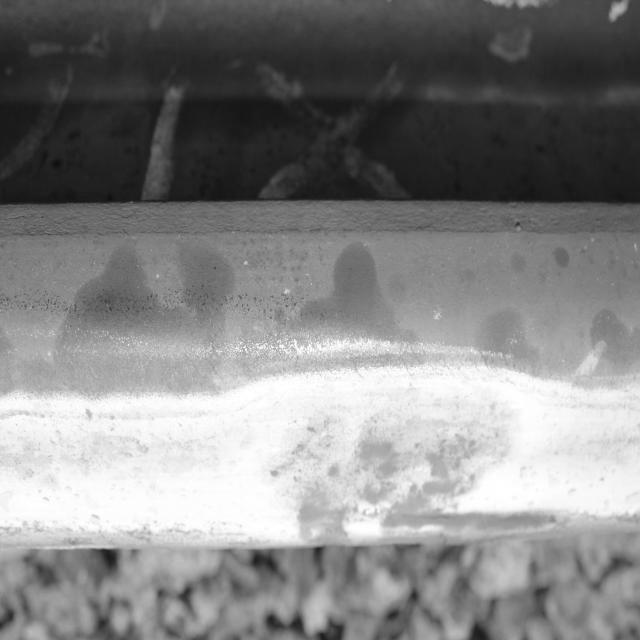head_checks_high: (221, 351, 579, 547)
